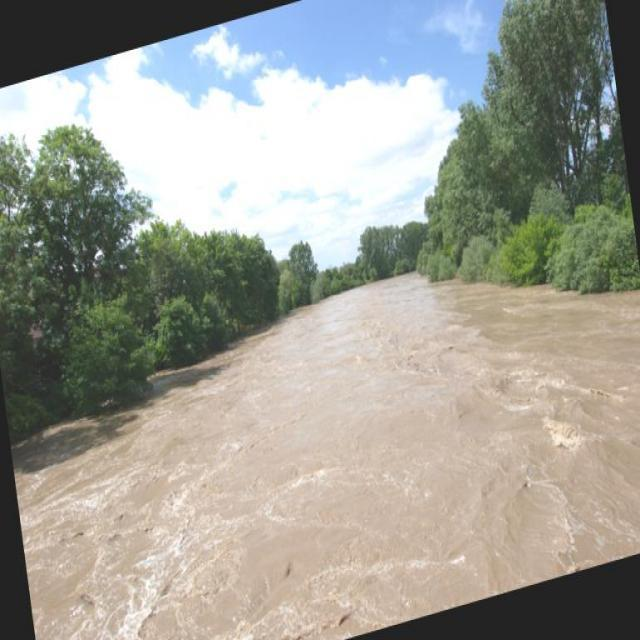flood: (1, 189, 639, 639)
